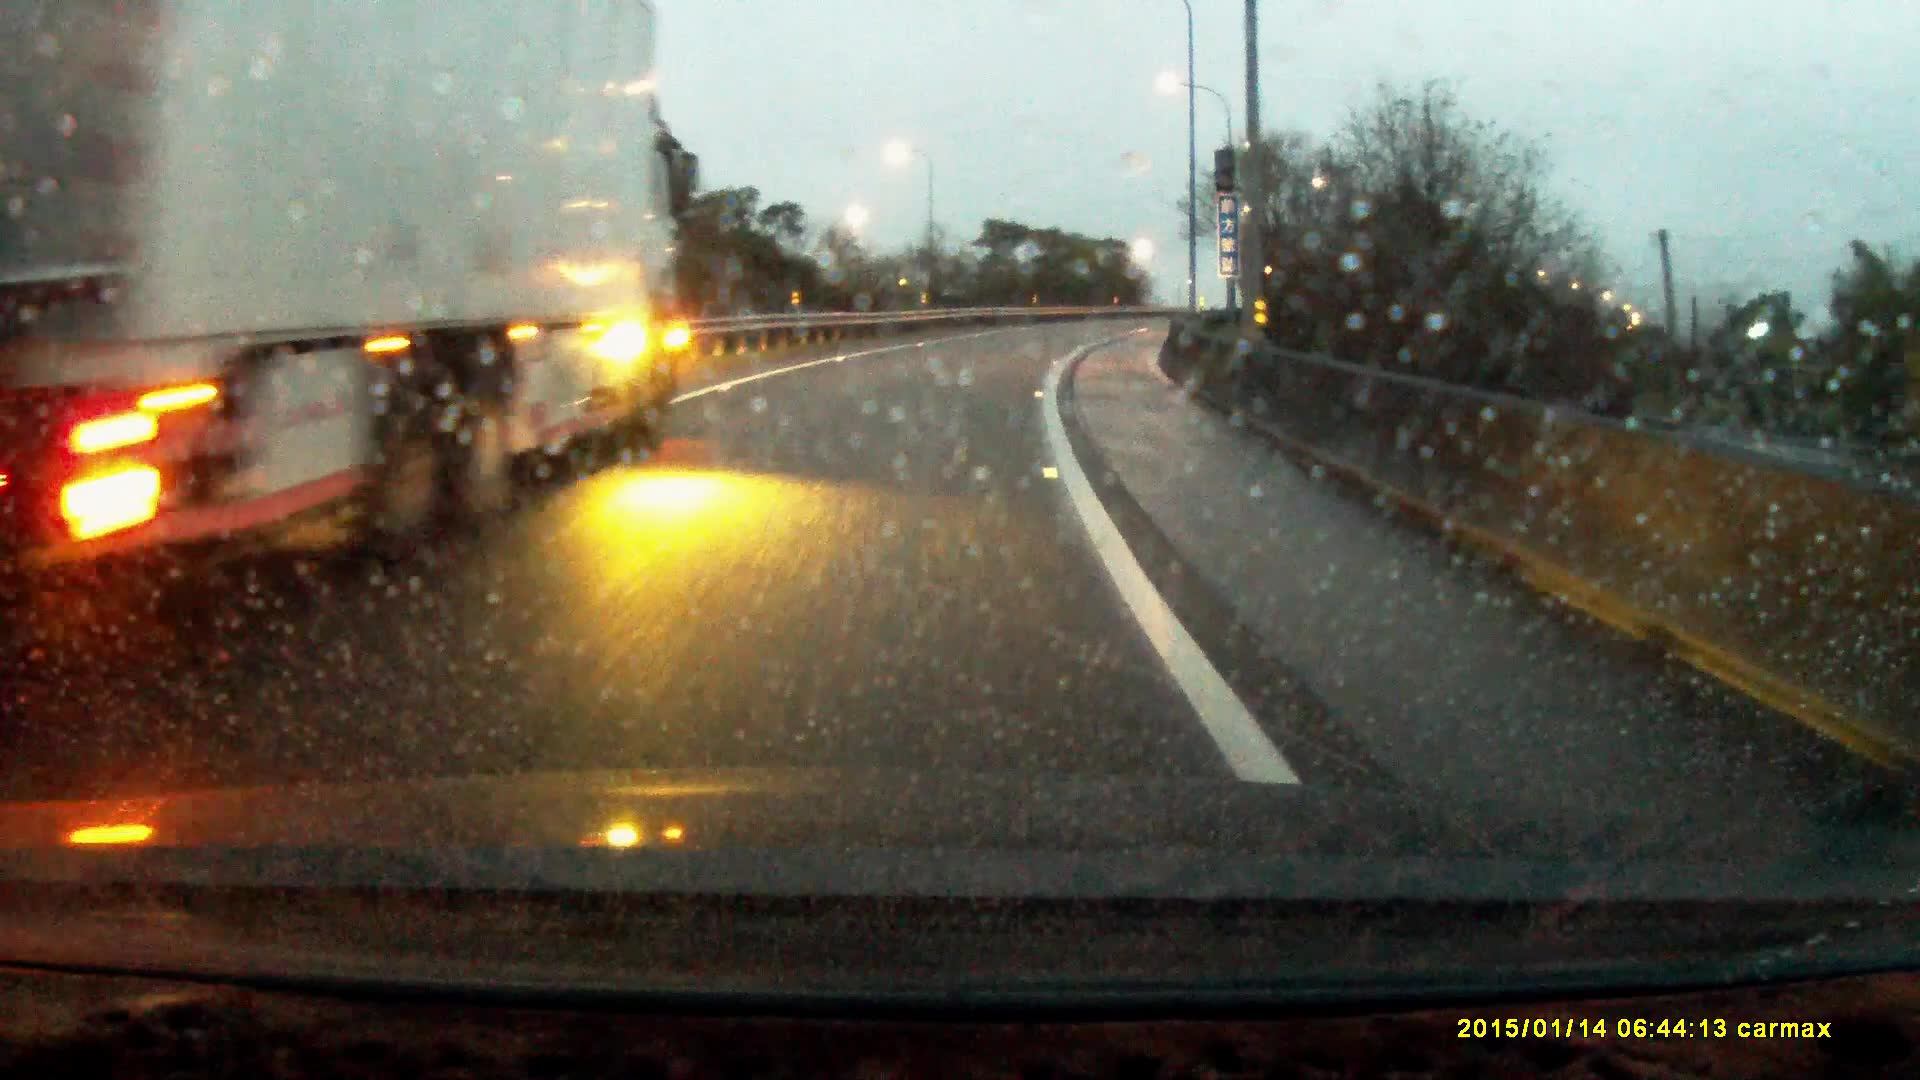vehicle: (5, 1, 691, 603)
